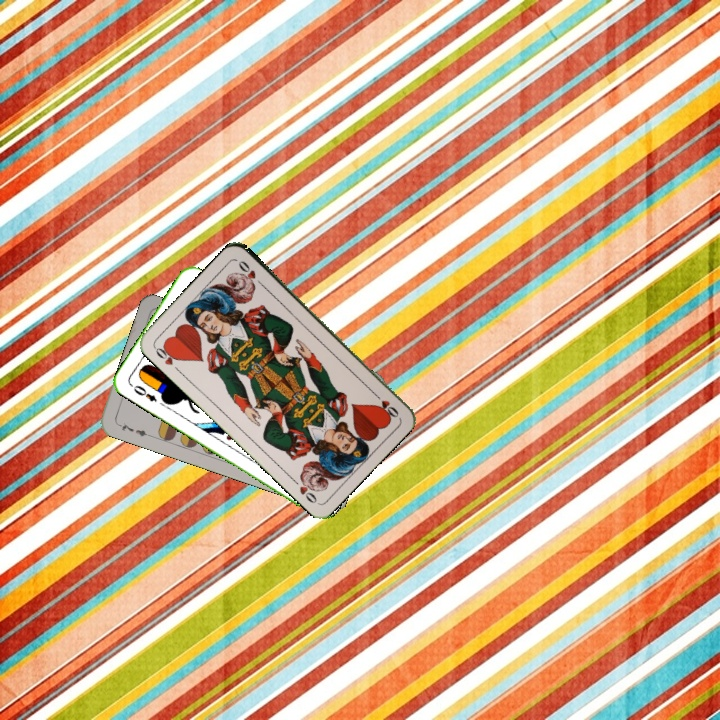E7: (113, 419, 153, 439)
EO: (129, 381, 160, 404)
HO: (150, 340, 183, 375), (369, 388, 401, 420)
